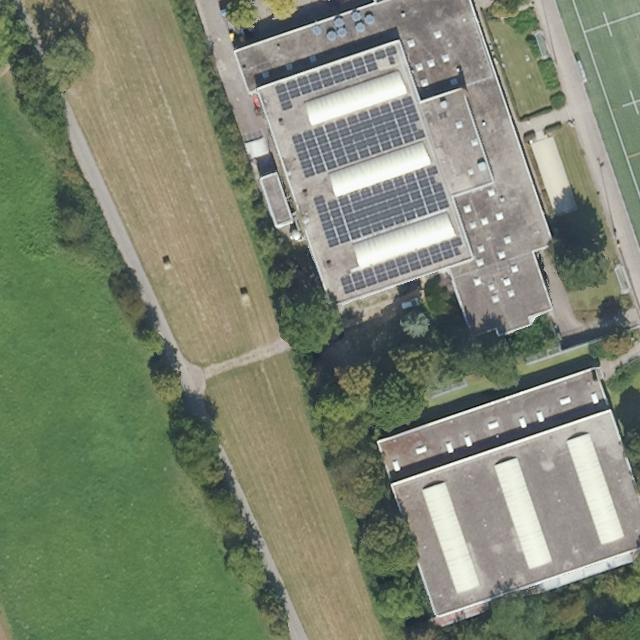PV: (312, 162, 452, 251), (289, 94, 428, 181), (273, 44, 399, 112), (338, 235, 465, 296)
